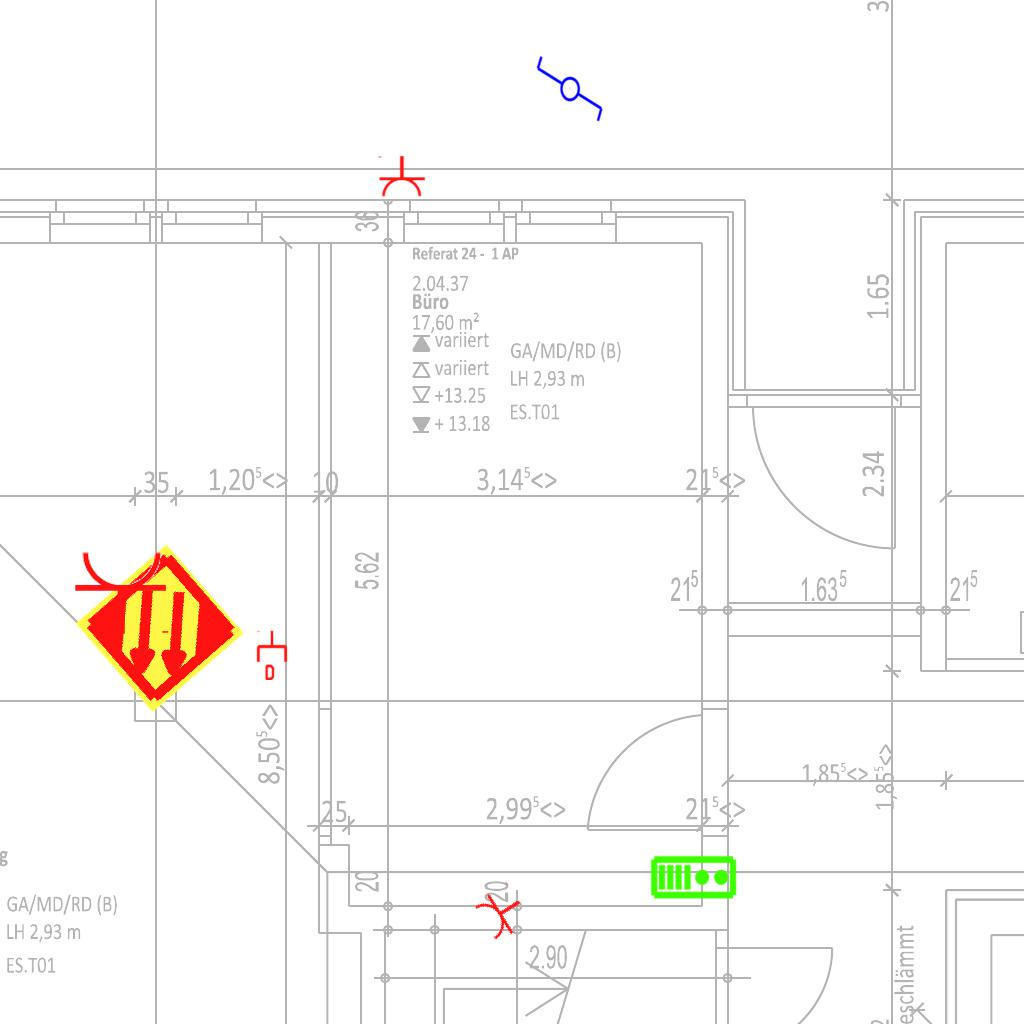ASR_Ansaugrauchmelder: (71, 540, 248, 717)
Datenanschluss_einfach: (255, 630, 289, 680)
Gegensprechanlage_mit_Video: (650, 853, 738, 900)
Schukosteckdose_einfach: (73, 549, 173, 636), (470, 879, 533, 945), (376, 155, 426, 198)
Wechselschalter: (533, 54, 605, 132)
